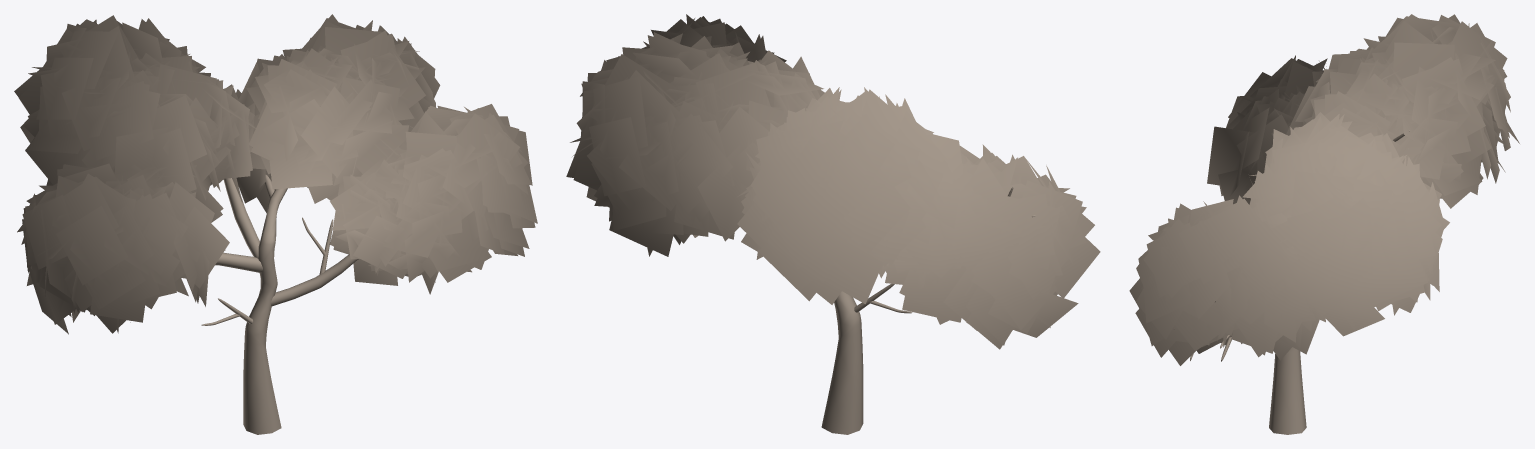
File: MapleTree_3.glb
The picture shows the model from 3 angles, left to right: view 1: azimuth 30°, elevation 25°; view 2: azimuth 150°, elevation 25°; view 3: azimuth 270°, elevation 25°; orthographic projection. The views are drawn at different scales.
Parts seen in each view (by area): view 1: MapleTree_Leaves, MapleTree_Bark; view 2: MapleTree_Leaves, MapleTree_Bark; view 3: MapleTree_Leaves, MapleTree_Bark.
Part boxes in pixels (x1,y1,x2,y2): MapleTree_Leaves: (14, 14, 537, 334); MapleTree_Bark: (201, 175, 435, 434); MapleTree_Leaves: (566, 14, 1100, 349); MapleTree_Bark: (821, 186, 1035, 434); MapleTree_Leaves: (1129, 14, 1519, 365); MapleTree_Bark: (1174, 69, 1409, 434).
Size of the model in its own units: 8.98 by 6.99 by 6.61.
